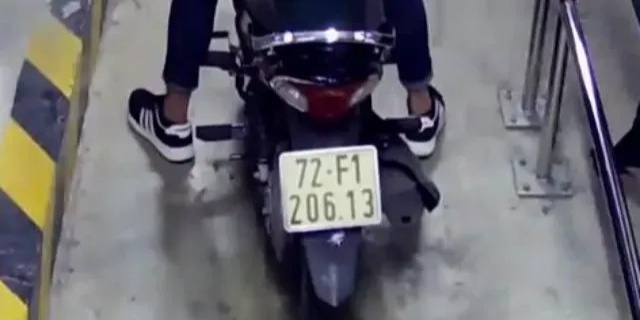bien_so: (277, 144, 380, 232)
